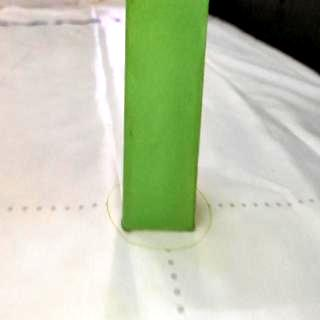greenbox: (120, 1, 212, 230)
